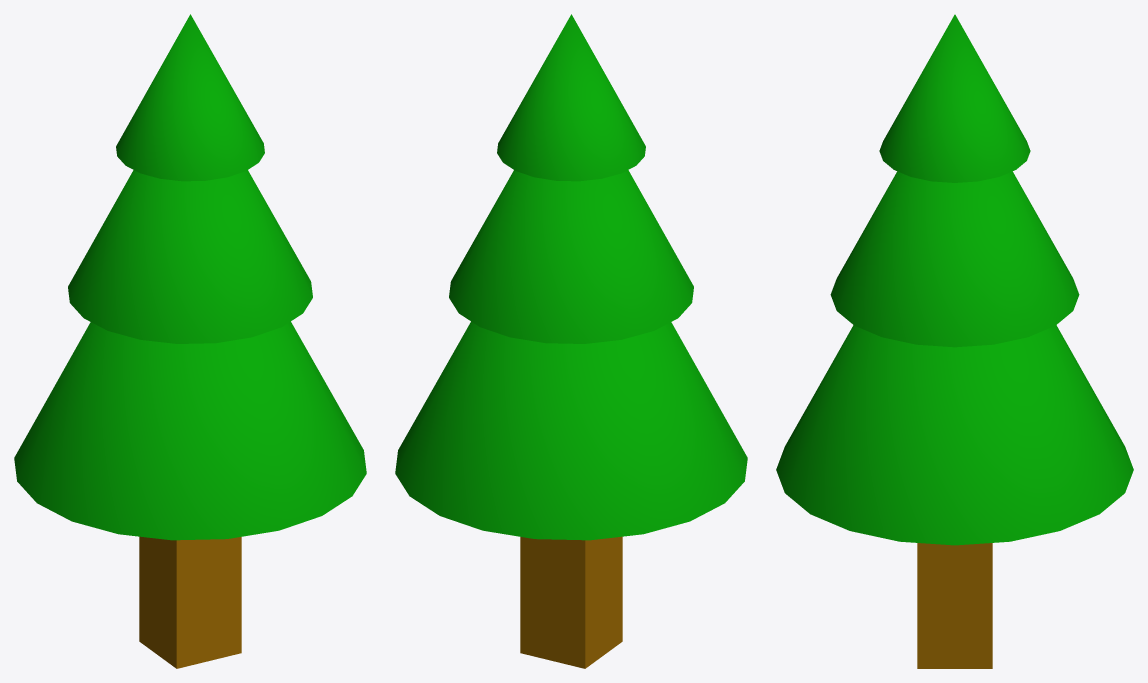
The model's file is Tree Colored.fbx.
3 renders of one model, left to right at view 1: azimuth 30°, elevation 25°; view 2: azimuth 150°, elevation 25°; view 3: azimuth 270°, elevation 25°, orthographic.
Visible parts, largest first — view 1: polySurface8; view 2: polySurface8; view 3: polySurface8.
Boxes of the visible parts, <box> form: polySurface8: <box>14,14,366,668</box>; polySurface8: <box>395,14,747,668</box>; polySurface8: <box>776,14,1133,668</box>.
Bounding box in the file's own units: 4.73 × 9.32 × 4.73.
